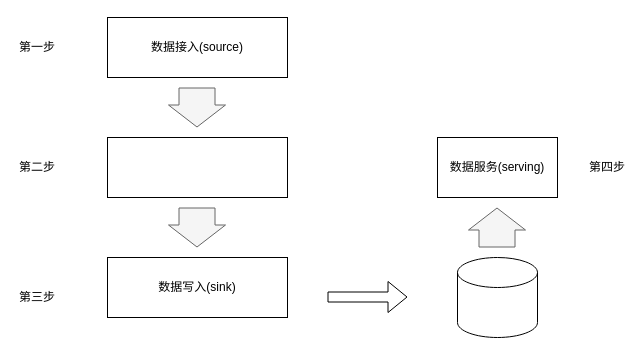
Some shapes in this 644 by 355 pixel diagram are drawn without their labels. The centre of each missing label's shape, as x and y in pixels:
数据存储(store): pixel 497 297
数据清洗(transform): pixel 197 167
